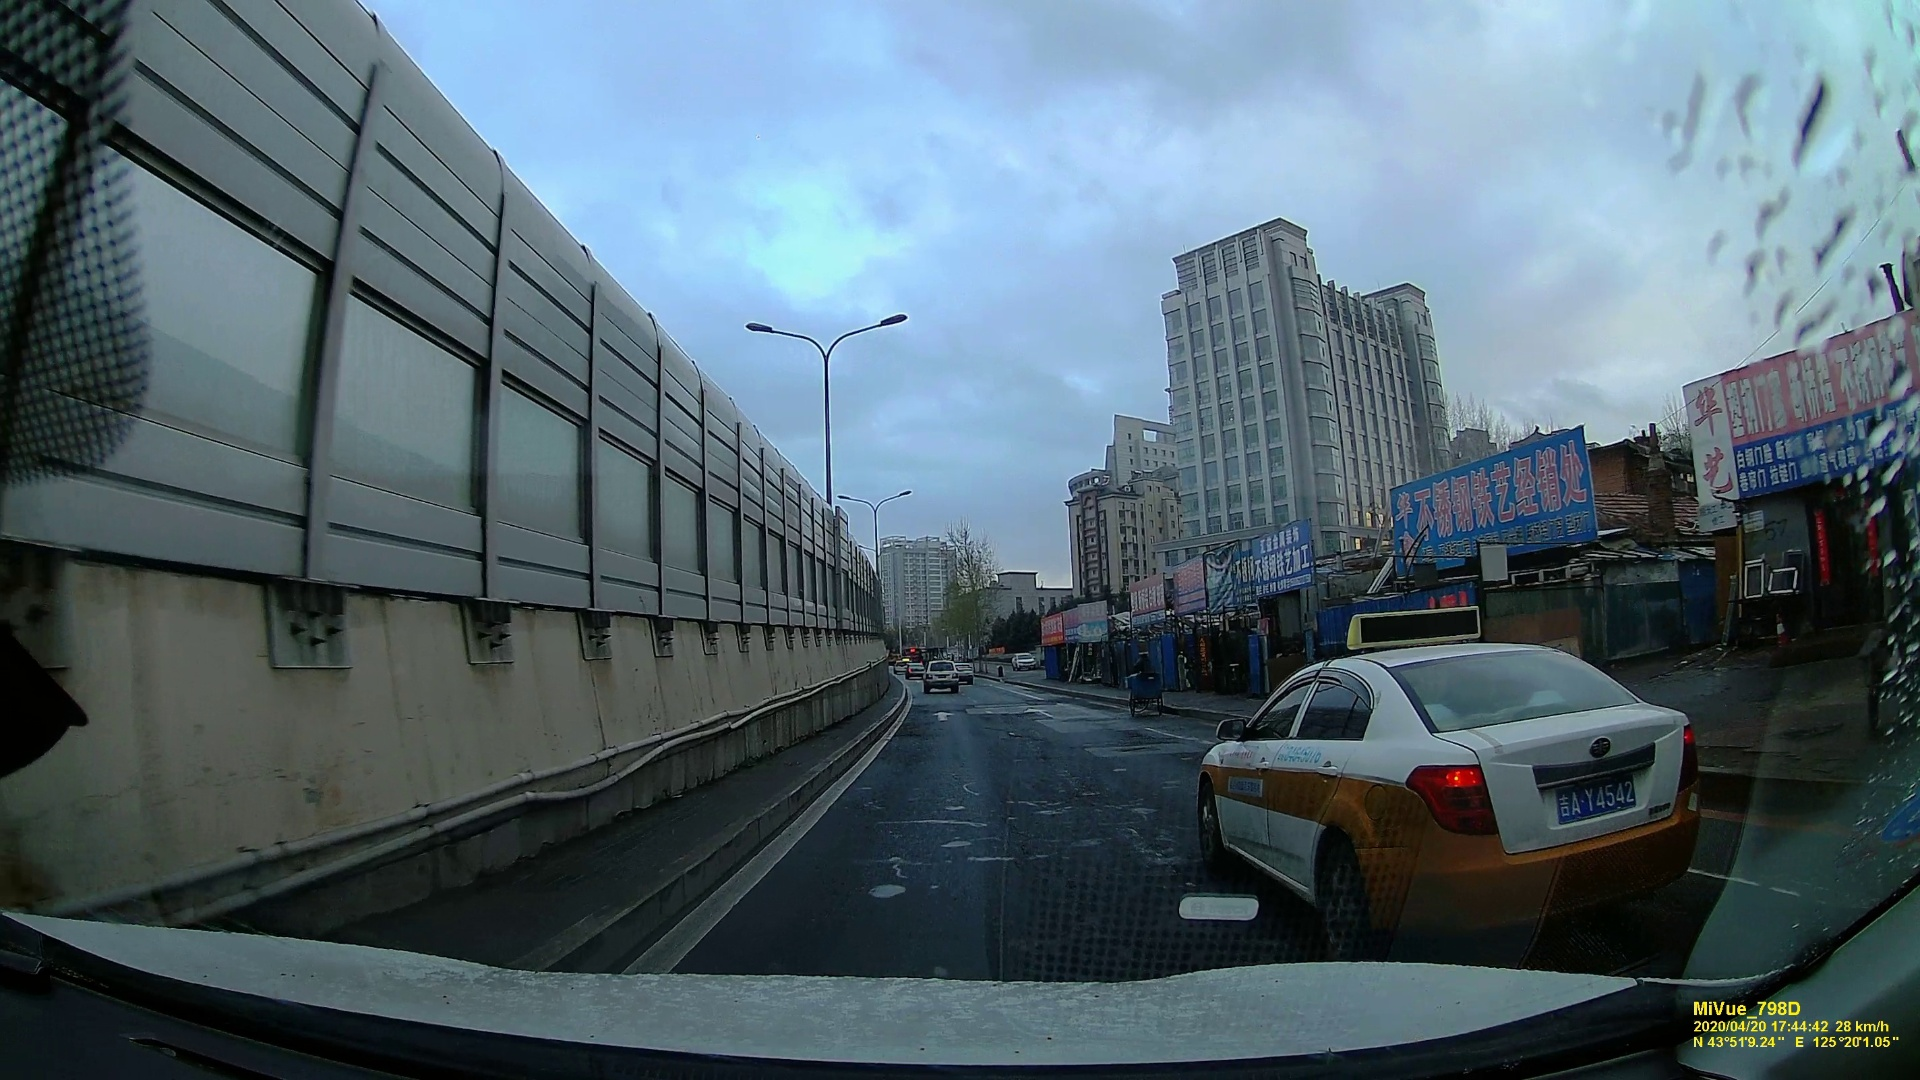vehicle: (1188, 644, 1706, 945), (923, 661, 957, 694)
